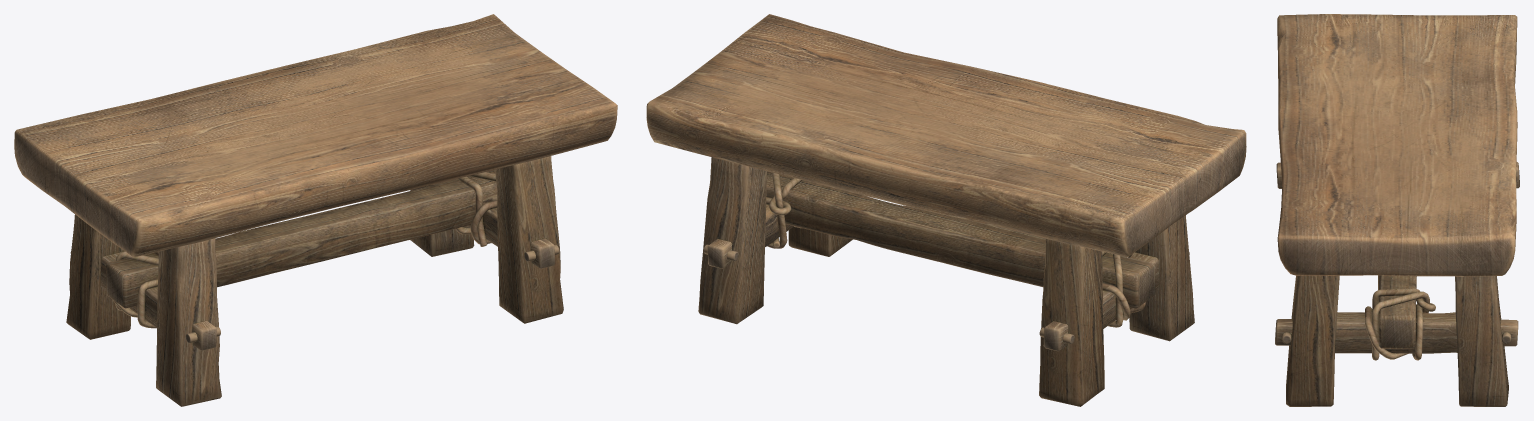
The model's file is stool.gltf.
3 renders of one model, left to right at view 1: azimuth 30°, elevation 25°; view 2: azimuth 150°, elevation 25°; view 3: azimuth 270°, elevation 25°, orthographic. The views are drawn at different scales.
Visible parts, largest first — view 1: TP003_wooden_stool; view 2: TP003_wooden_stool; view 3: TP003_wooden_stool.
Part boxes in pixels (x1,y1,x2,y2): TP003_wooden_stool: (14, 14, 617, 406); TP003_wooden_stool: (646, 14, 1246, 406); TP003_wooden_stool: (1275, 14, 1519, 406).
Bounding box in the file's own units: 1.15 × 0.4648 × 0.5305.
Materials: 1 (1 with a texture image).
